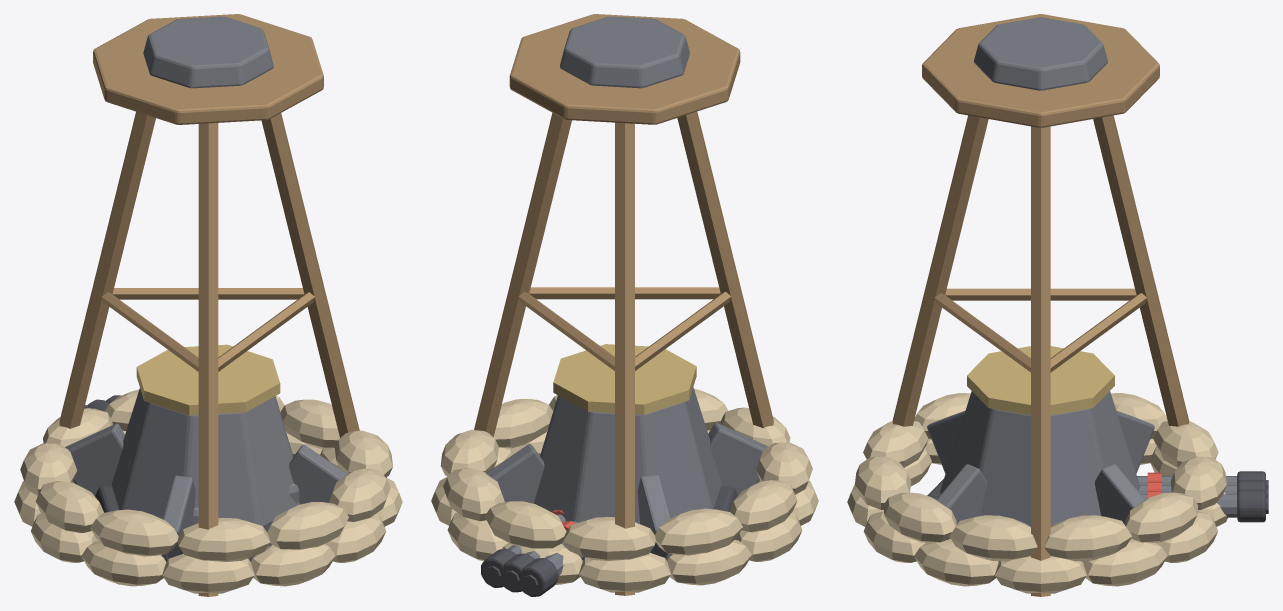
The model's file is turret_buddy.glb.
The picture shows the model from 3 angles, left to right: view 1: azimuth 30°, elevation 25°; view 2: azimuth 150°, elevation 25°; view 3: azimuth 270°, elevation 25°; orthographic projection.
Parts seen in each view (by area): view 1: Tripod, Sandbags, Base; view 2: Tripod, Sandbags, Base, BarrelL, BarrelR, Barrel; view 3: Tripod, Sandbags, Base, BarrelR, BarrelL, Barrel.
Part boxes in pixels (x1,y1,x2,y2): Tripod: (59, 14, 359, 596); Sandbags: (14, 389, 402, 593); Base: (65, 344, 347, 561); Tripod: (474, 14, 773, 595); Sandbags: (431, 388, 818, 592); Base: (486, 344, 768, 560); BarrelL: (519, 543, 585, 596); BarrelR: (481, 510, 565, 587); Barrel: (500, 521, 577, 592); Tripod: (892, 14, 1189, 596); Sandbags: (847, 393, 1227, 593); Base: (927, 346, 1154, 561); BarrelR: (1141, 489, 1268, 522); BarrelL: (1137, 471, 1268, 488); Barrel: (1138, 480, 1268, 497).
Bounding box in the file's own units: 1.36 × 1.87 × 1.48.
